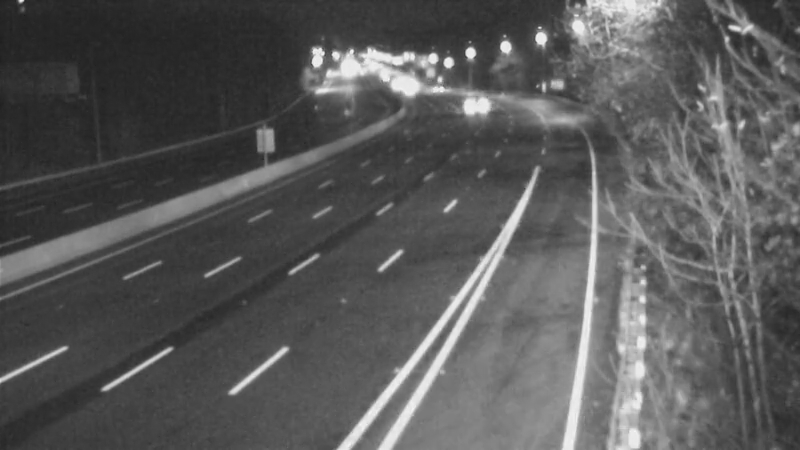vehicle: (410, 64, 460, 114), (453, 84, 503, 134)
